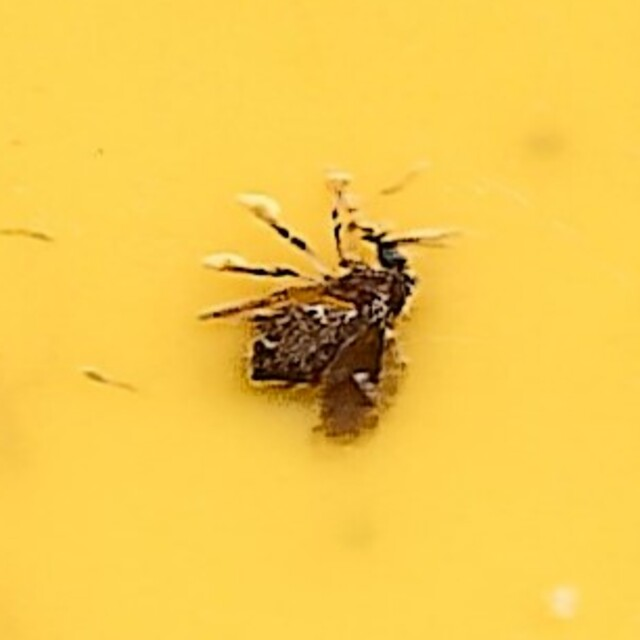Brachycera: (209, 195, 431, 445)
